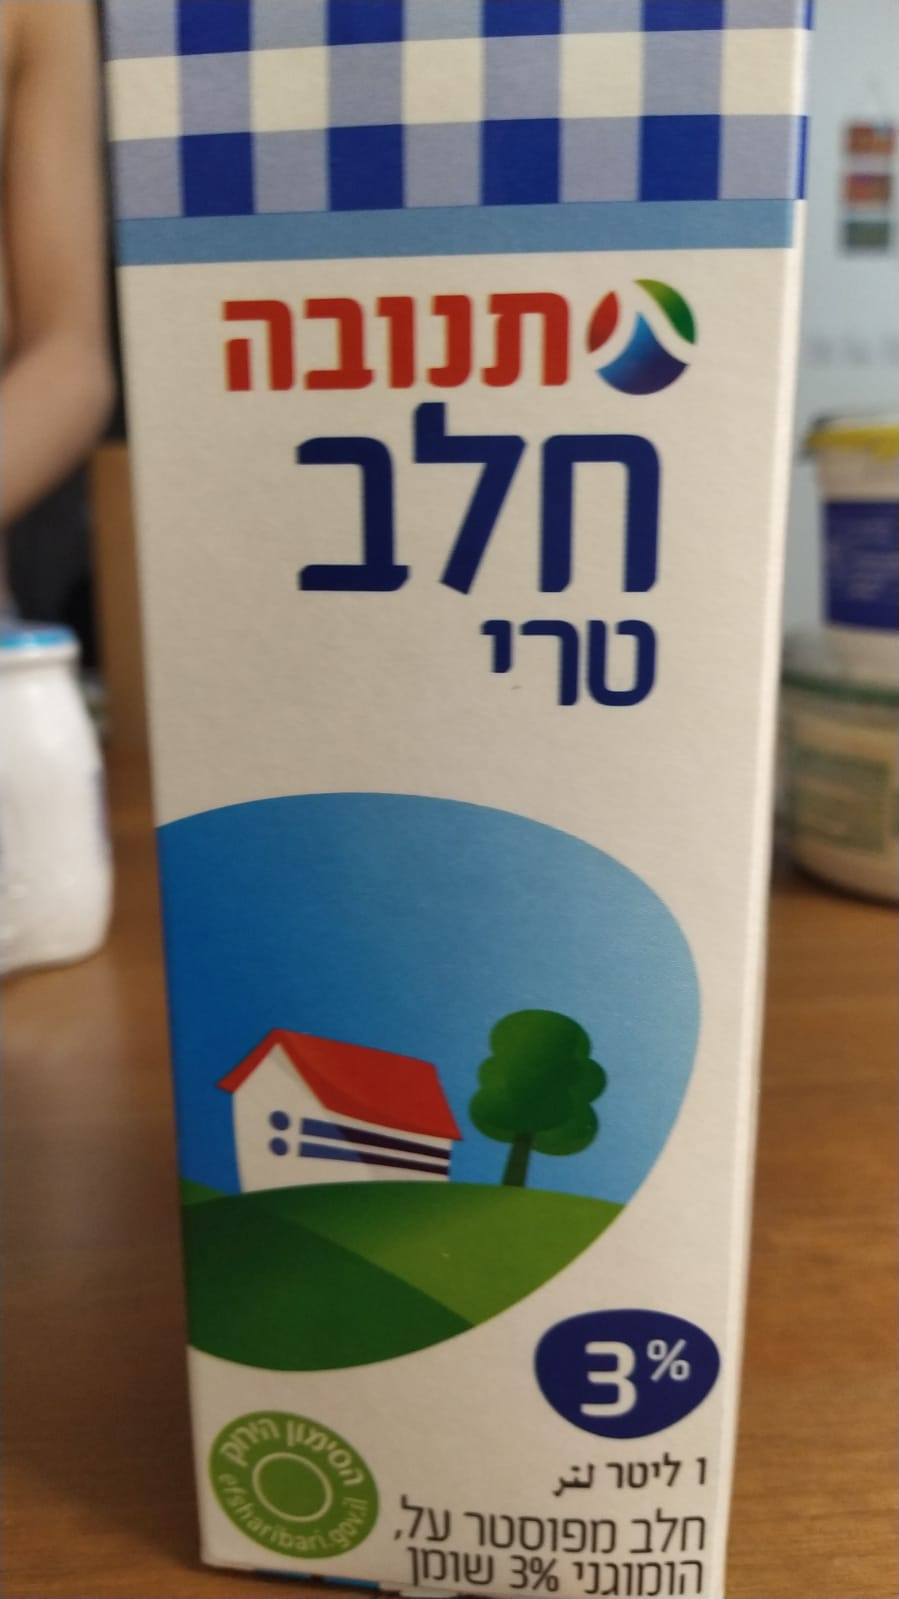green: (207, 1412, 381, 1562)
